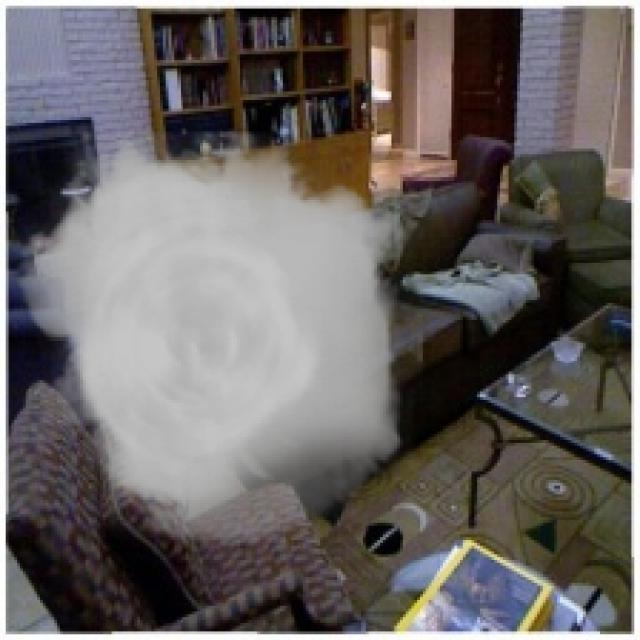smoke: (6, 131, 423, 546)
